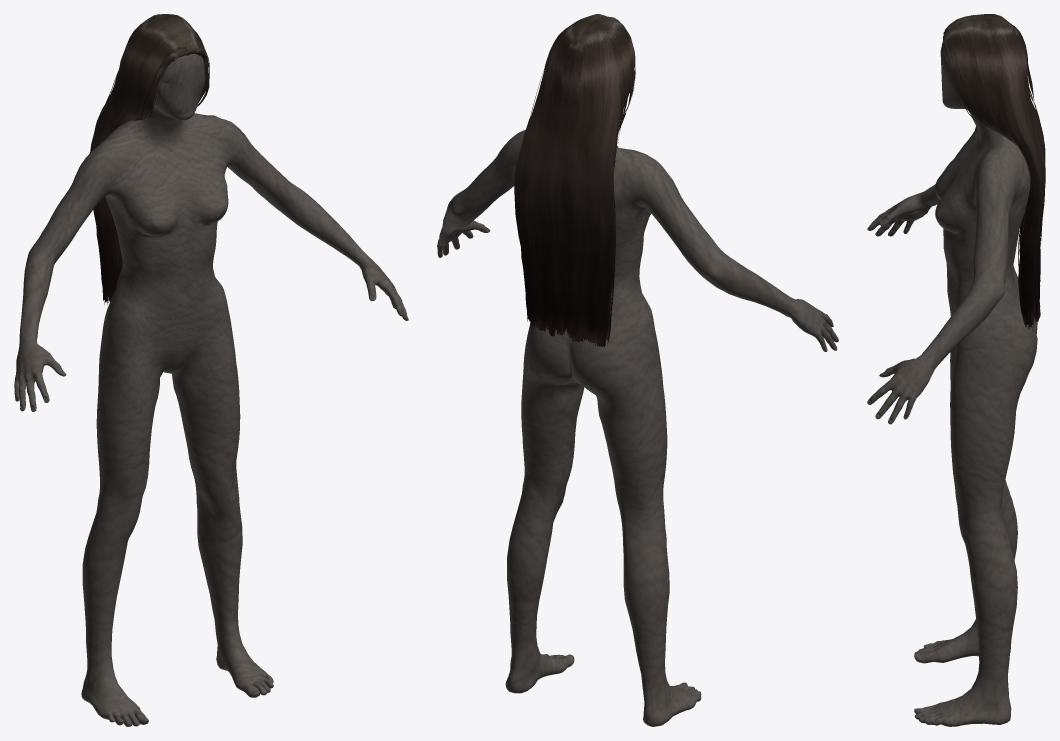
File: kira_human_2.dae
The picture shows the model from 3 angles, left to right: view 1: azimuth 30°, elevation 25°; view 2: azimuth 150°, elevation 25°; view 3: azimuth 270°, elevation 25°; orthographic projection.
Parts seen in each view (by area): view 1: kira_human_1-base, kira_human_1-long01; view 2: kira_human_1-base, kira_human_1-long01; view 3: kira_human_1-base, kira_human_1-long01.
Part boxes in pixels (bbox=[...]): kira_human_1-base: bbox=[14, 53, 408, 726]; kira_human_1-long01: bbox=[90, 14, 209, 304]; kira_human_1-base: bbox=[437, 130, 838, 726]; kira_human_1-long01: bbox=[514, 14, 635, 347]; kira_human_1-base: bbox=[867, 41, 1037, 726]; kira_human_1-long01: bbox=[943, 14, 1045, 330].
Size of the model in its own units: 1.01 by 0.4037 by 1.68.
Materials: 2 (2 with a texture image).
